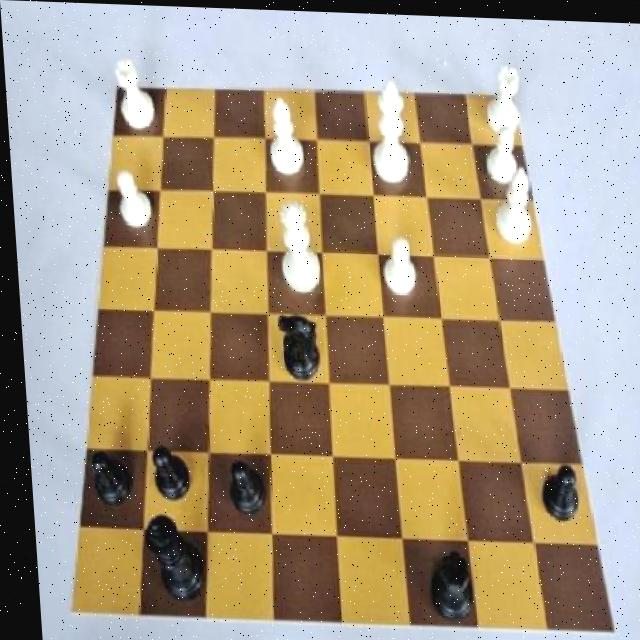black-bishop: (138, 509, 203, 611)
black-king: (270, 310, 321, 389)
black-knight: (77, 439, 129, 524), (529, 455, 580, 533), (140, 433, 187, 507), (213, 454, 262, 521)
black-queen: (417, 538, 472, 625)
black-rook: (264, 89, 309, 184), (488, 158, 537, 244)
white-bishop: (365, 69, 415, 188)
white-knight: (370, 226, 422, 306), (476, 115, 527, 185), (102, 169, 150, 236)
white-pawn: (267, 195, 323, 303)
white-queen: (474, 52, 524, 141), (109, 57, 159, 142)
